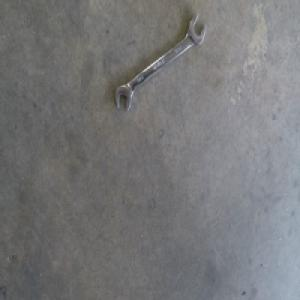Wrench: (115, 17, 206, 113)
